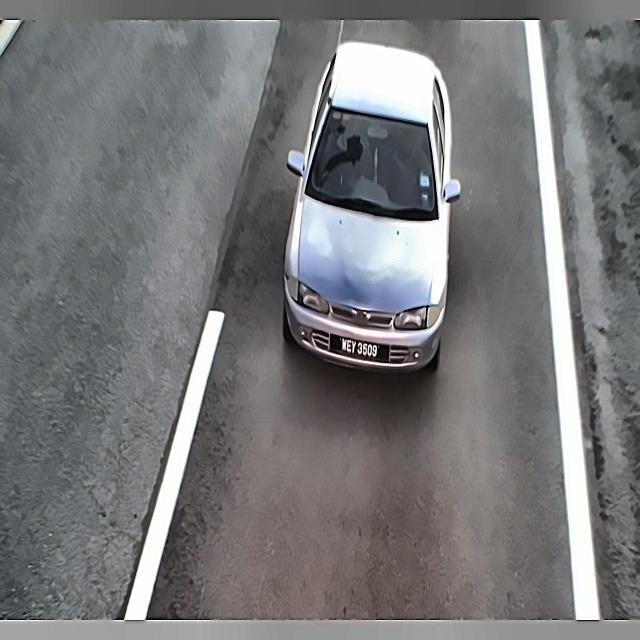car: (329, 328, 389, 369)
